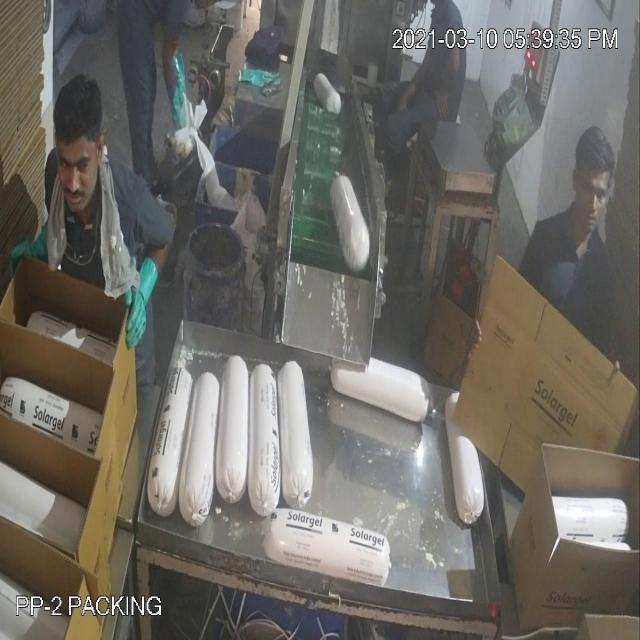Gloves: (120, 251, 160, 359)
